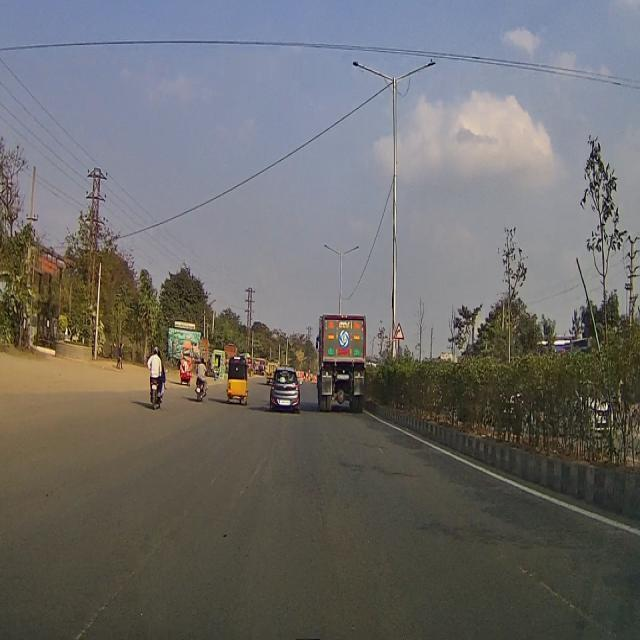right-hand-curve: (393, 321, 404, 338)
